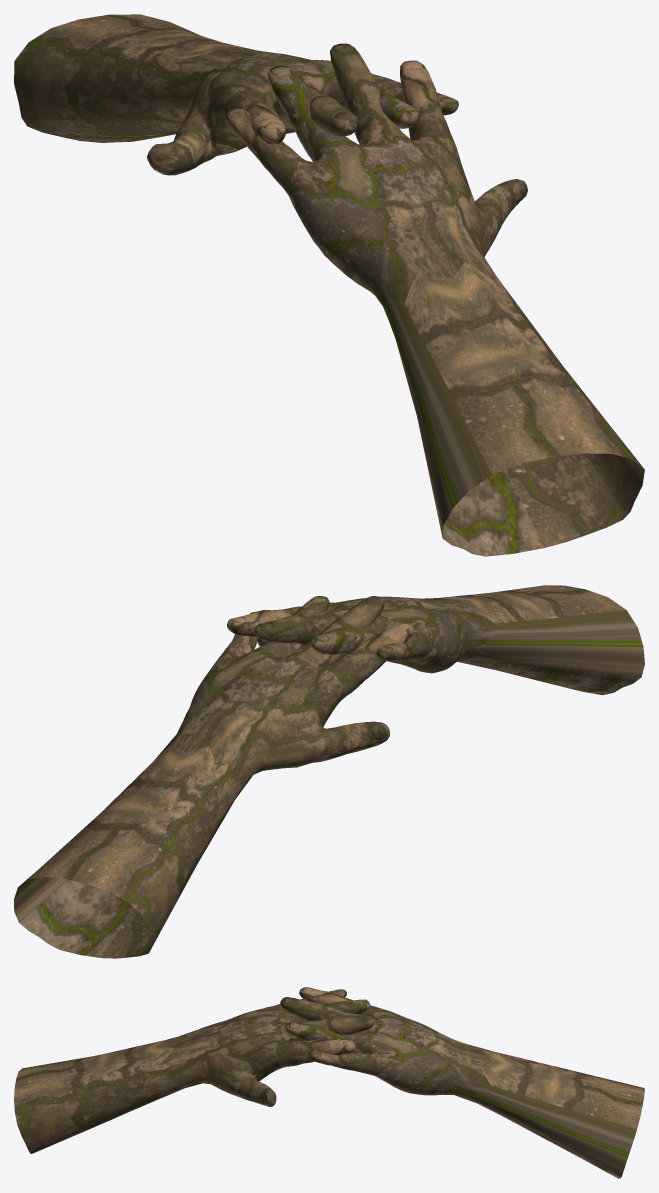
File: hands_000004.obj
The picture shows the model from 3 angles, top to bottom: view 1: azimuth 30°, elevation 25°; view 2: azimuth 150°, elevation 25°; view 3: azimuth 270°, elevation 25°; orthographic projection. The views are drawn at different scales.
Parts seen in each view (by area): view 1: hand.001_Mesh.001, hand_Mesh; view 2: hand_Mesh, hand.001_Mesh.001; view 3: hand_Mesh, hand.001_Mesh.001.
Part boxes in pixels (bbox=[...]): hand.001_Mesh.001: bbox=[225, 43, 644, 556]; hand_Mesh: bbox=[14, 14, 458, 175]; hand_Mesh: bbox=[14, 596, 413, 958]; hand.001_Mesh.001: bbox=[227, 585, 644, 695]; hand_Mesh: bbox=[280, 987, 644, 1178]; hand.001_Mesh.001: bbox=[14, 989, 374, 1153].
Size of the model in its own units: 1.58 by 1.4 by 5.28.
1 material, 1 textured.
